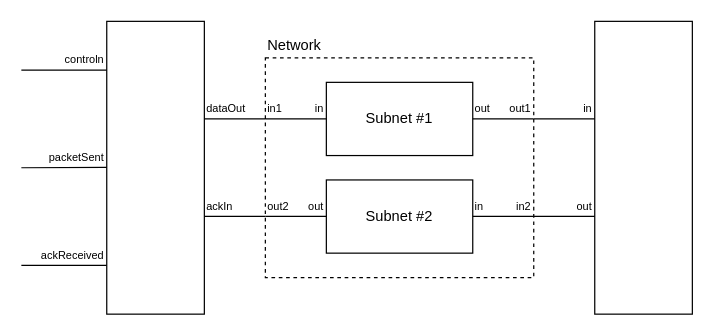
The diagram is 714 pixels wide and 336 high, and some of its shapes have lost their labels. The centre of each missing label's shape, as x and y in pixels:
"Receiver" goes at point 643,167.
"Sender" goes at point 155,167.
